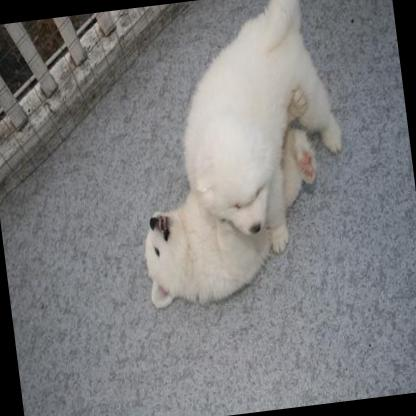Samoyed: (163, 0, 354, 258), (123, 84, 333, 312)
